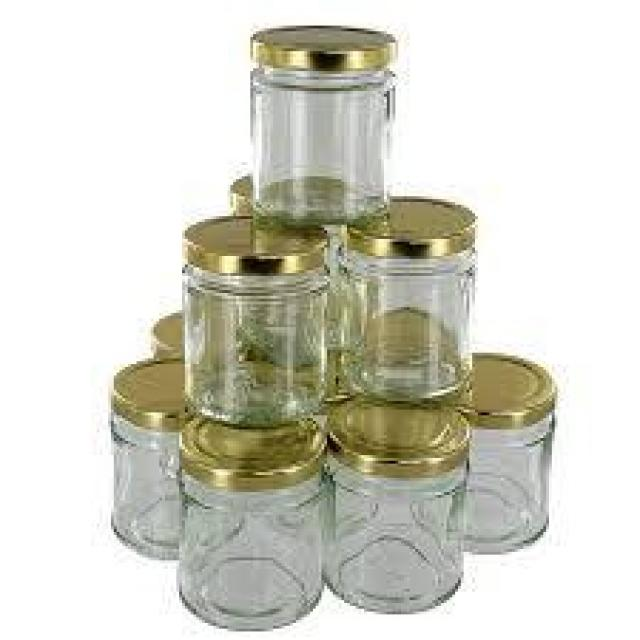non-organic waste: (242, 20, 398, 233)
